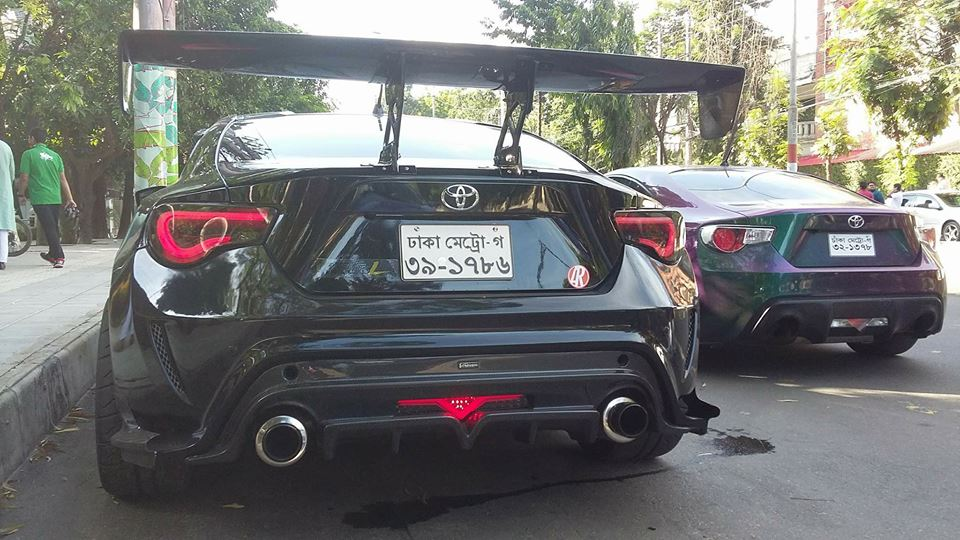registration_plate: (396, 223, 514, 283), (827, 232, 877, 258)
